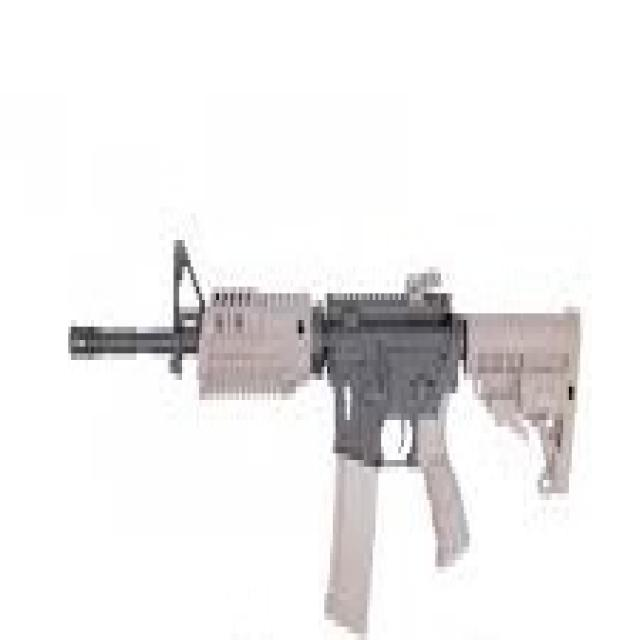rifle: (67, 234, 584, 640)
